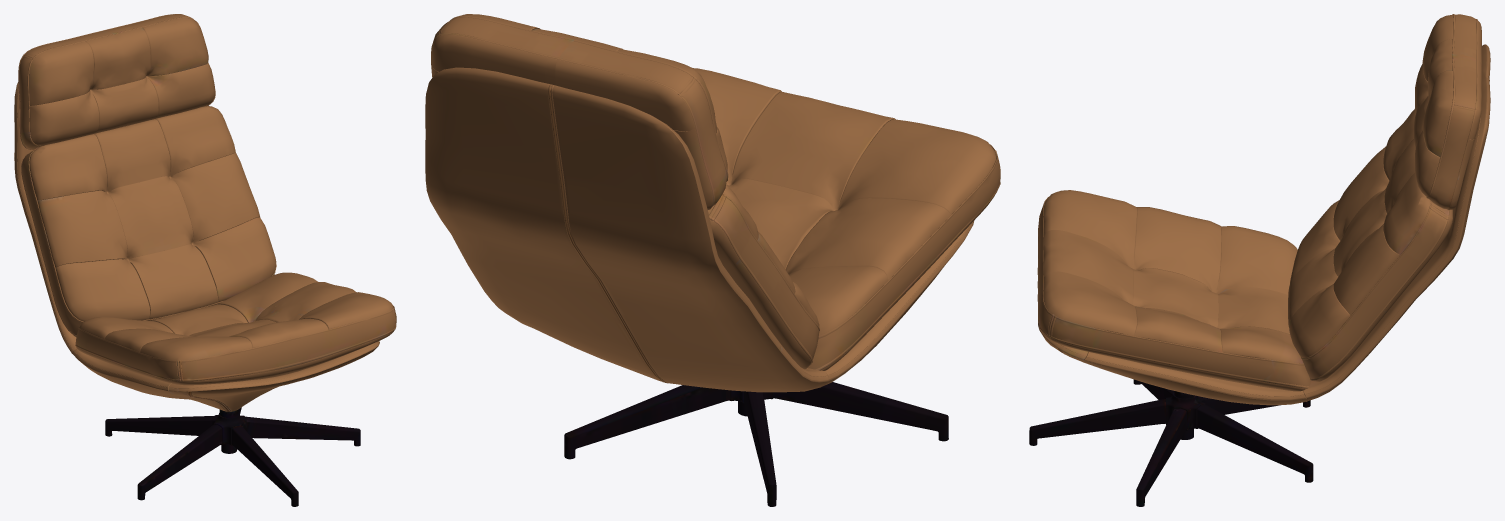
File: havberg-silla-giratoria-grannbomstad-marron-dorado.glb
3 renders of one model, left to right at view 1: azimuth 30°, elevation 25°; view 2: azimuth 150°, elevation 25°; view 3: azimuth 270°, elevation 25°, orthographic. The views are drawn at different scales.
Visible parts, largest first — view 1: Mesh_0; view 2: Mesh_0; view 3: Mesh_0.
Part boxes in pixels (x1,y1,x2,y2): Mesh_0: (14, 14, 396, 506); Mesh_0: (425, 14, 1000, 506); Mesh_0: (1029, 14, 1490, 506).
Size of the model in its own units: 0.6623 by 0.9289 by 0.9947.
Materials: 1 (1 with a texture image).
